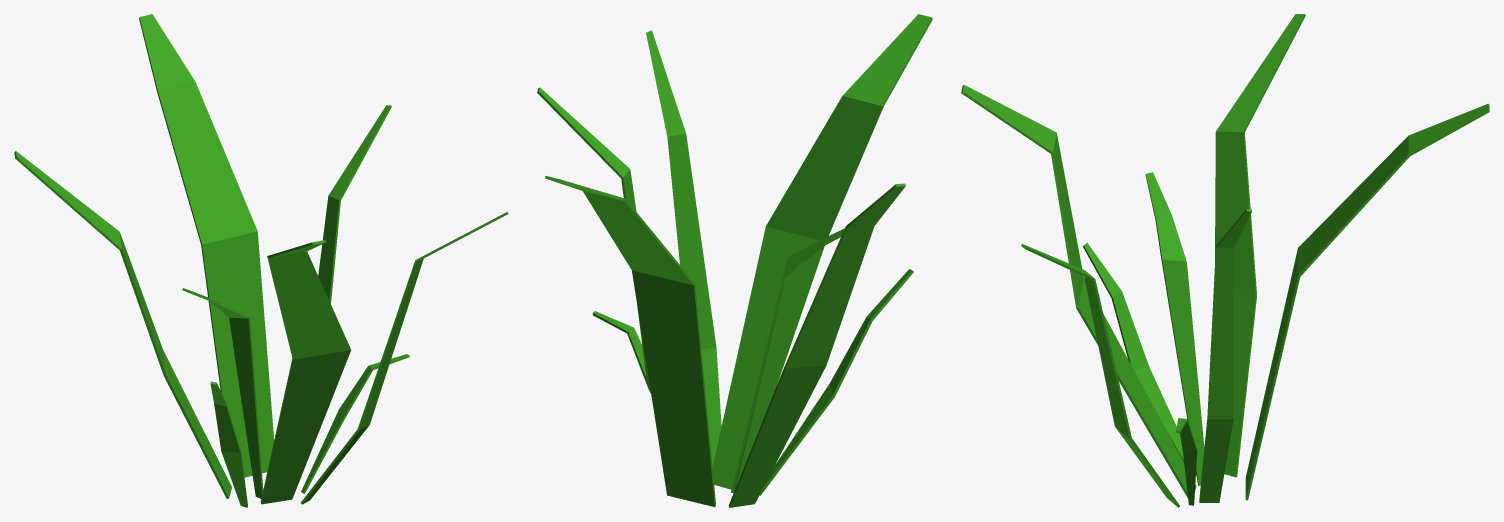
The model's file is Grass_2.fbx.
The picture shows the model from 3 angles, left to right: view 1: azimuth 30°, elevation 25°; view 2: azimuth 150°, elevation 25°; view 3: azimuth 270°, elevation 25°; orthographic projection. The views are drawn at different scales.
Visible parts, largest first — view 1: Grass_2; view 2: Grass_2; view 3: Grass_2.
Boxes of the visible parts, x1,y1,x2,y2 form: Grass_2: [14, 14, 508, 507]; Grass_2: [537, 14, 932, 507]; Grass_2: [961, 14, 1489, 507].
Bounding box in the file's own units: 2.83 × 2.83 × 3.44.
